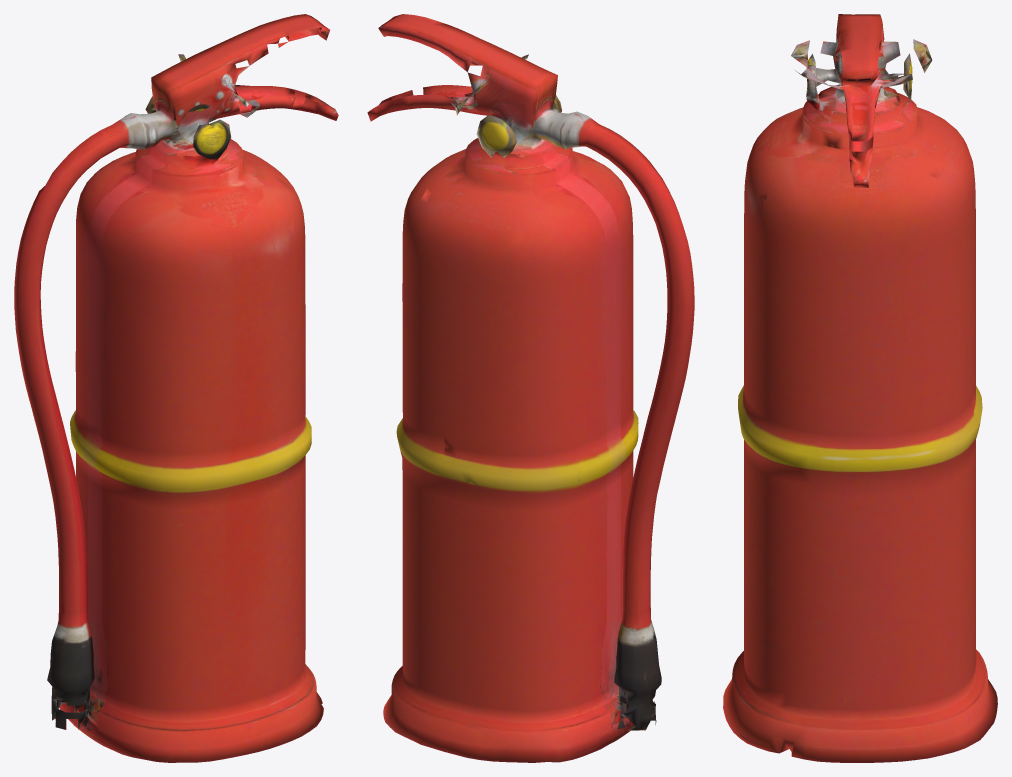
3 renders of one model, left to right at view 1: azimuth 30°, elevation 25°; view 2: azimuth 150°, elevation 25°; view 3: azimuth 270°, elevation 25°, orthographic. The views are drawn at different scales.
Size of the model in its own units: 1.02 by 1.99 by 0.7035.
Materials: 1 (1 with a texture image).
